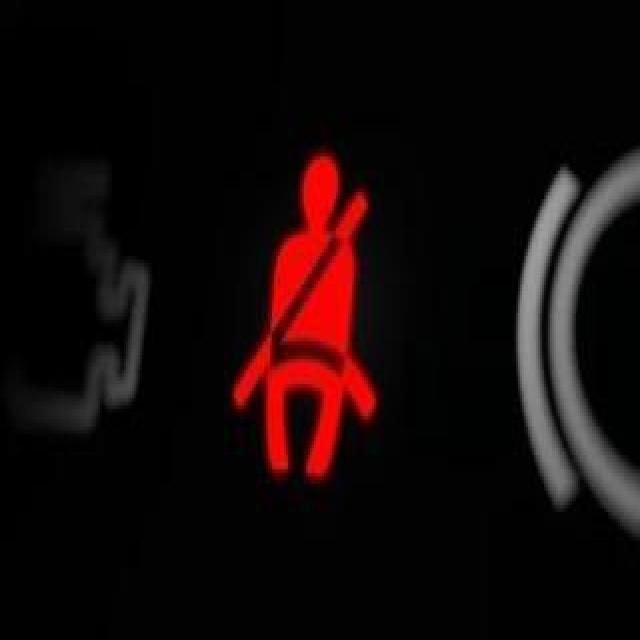kontrolka: (201, 126, 411, 511)
